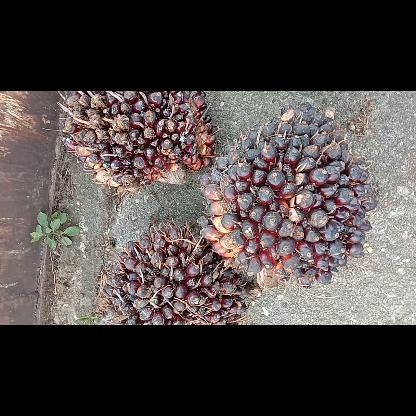TBS mentah: (196, 104, 376, 289), (104, 222, 258, 324), (61, 92, 212, 190)
